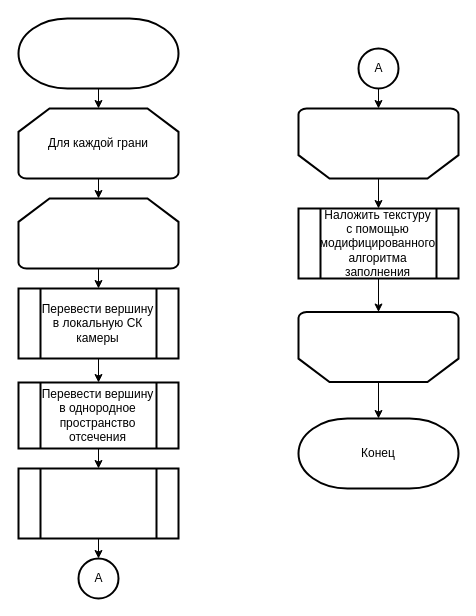
Some shapes in this 476 by 616 pixel diagram are drawn without their labels. Each missing label, with the centre of its shape:
Для каждой вершины: pixel 98 233
Начало: pixel 98 53
Перевести вершину в экранные координаты: pixel 98 503
